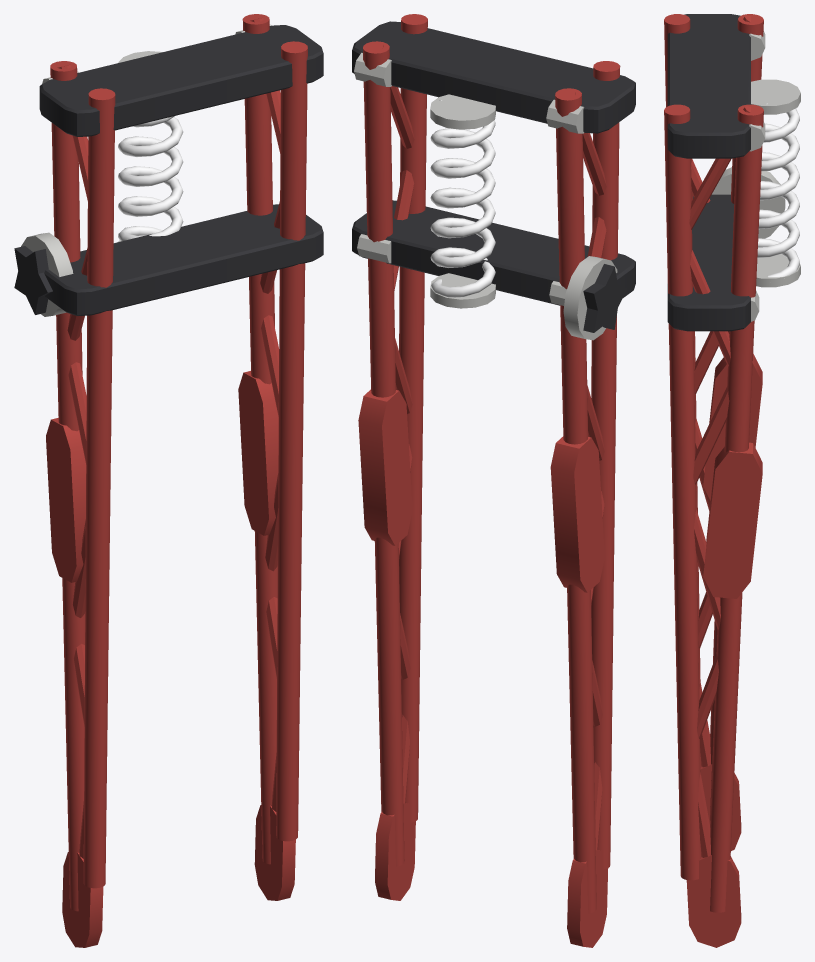
Rendered from girder_vintage_upper.glb.
3 views of the same model, side by side, from view 1: azimuth 30°, elevation 25°; view 2: azimuth 150°, elevation 25°; view 3: azimuth 270°, elevation 25° (orthographic). The views are drawn at different scales.
Parts seen in each view (by area): view 1: lod0; view 2: lod0; view 3: lod0.
Boxes of the visible parts, x1,y1,x2,y2 form: lod0: [14, 14, 323, 947]; lod0: [352, 14, 635, 947]; lod0: [664, 14, 800, 947].
Size of what is drawn, in the model's own units: 0.245 by 0.7767 by 0.115.
